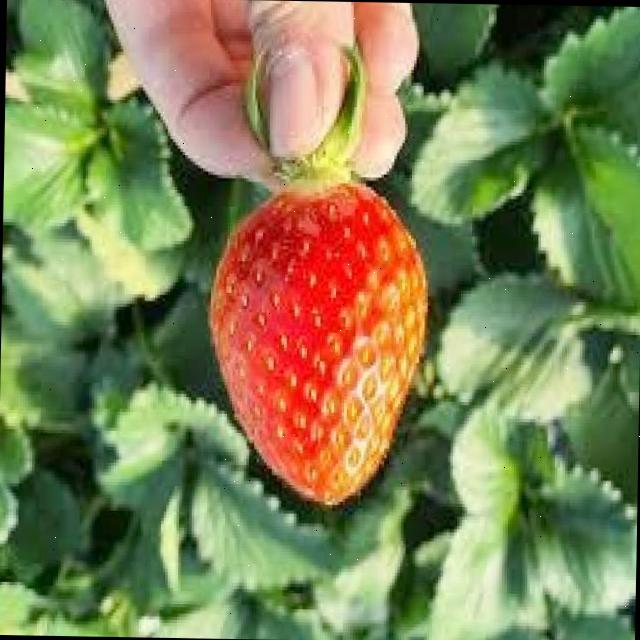strawberry: (203, 175, 430, 508)
